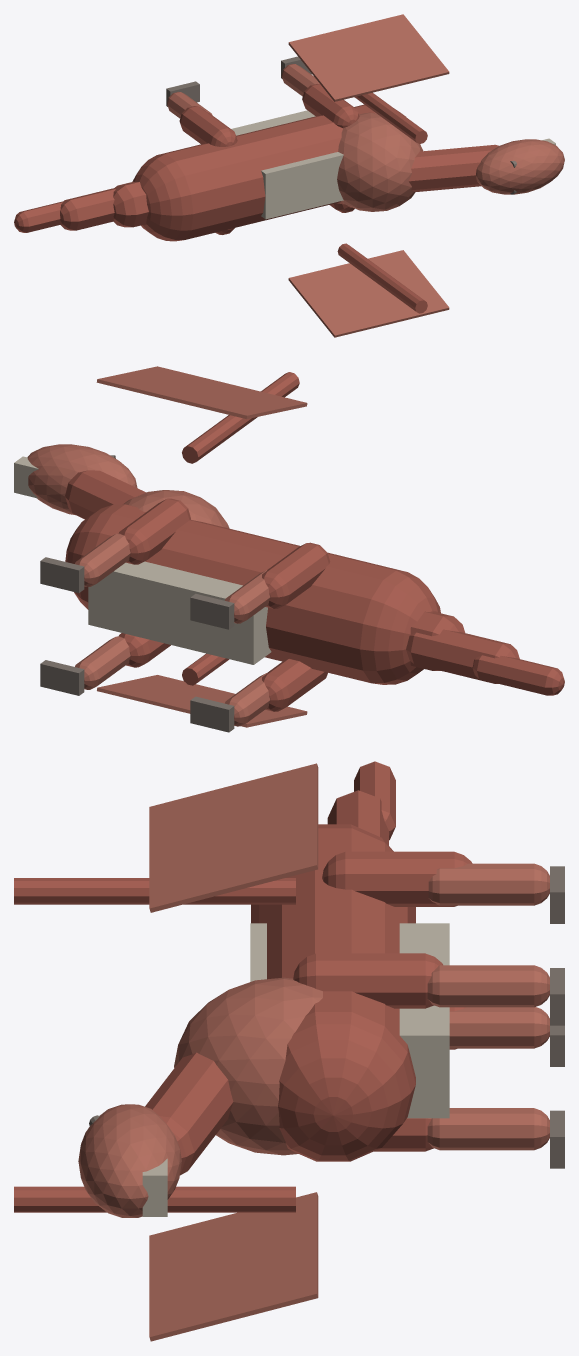
Rendered from red_dragon_v1.glb.
3 renders of one model, top to bottom at view 1: azimuth 30°, elevation 25°; view 2: azimuth 150°, elevation 25°; view 3: azimuth 270°, elevation 25°, orthographic. The views are drawn at different scales.
Visible parts, largest first — view 1: torso_body, arms_wing_membrane_R, arms_wing_membrane_L, torso_chest, torso_belly_plates, head_head, head_neck, legs_tail_1, arms_wing_arm_L, legs_hindleg_R, legs_tail_0, arms_foreleg_R (+5 smaller); view 2: torso_body, torso_belly_plates, arms_wing_membrane_R, head_head, legs_tail_1, arms_wing_membrane_L, legs_hindleg_R, arms_foreleg_R, legs_tail_2, head_neck, legs_hindleg_L, arms_wing_arm_R (+13 smaller); view 3: torso_body, arms_wing_membrane_R, arms_wing_membrane_L, torso_chest, head_head, torso_belly_plates, arms_foreleg_R, head_neck, legs_hindleg_R, arms_wing_arm_L, arms_wing_arm_R, arms_foreleg_R_lower (+10 smaller).
Boxes of the visible parts, box(x1,y1,x2,y2) form: torso_body: box(132, 104, 405, 241); arms_wing_membrane_R: box(288, 14, 449, 101); arms_wing_membrane_L: box(288, 250, 449, 337); torso_chest: box(337, 112, 423, 211); torso_belly_plates: box(231, 110, 343, 219); head_head: box(476, 139, 564, 194); head_neck: box(408, 144, 498, 192); legs_tail_1: box(60, 188, 115, 230); arms_wing_arm_L: box(337, 243, 427, 313); legs_hindleg_R: box(179, 106, 237, 146); legs_tail_0: box(113, 181, 148, 227); arms_foreleg_R: box(302, 84, 359, 128); torso_body: box(65, 504, 440, 684); torso_belly_plates: box(88, 561, 271, 664); arms_wing_membrane_R: box(96, 366, 307, 419); head_head: box(27, 444, 137, 515); legs_tail_1: box(406, 629, 519, 683); arms_wing_membrane_L: box(97, 675, 307, 727); legs_hindleg_R: box(262, 542, 330, 608); arms_foreleg_R: box(118, 498, 190, 564); legs_tail_2: box(472, 655, 564, 695); head_neck: box(65, 470, 146, 519); legs_hindleg_L: box(262, 659, 327, 711); arms_wing_arm_R: box(182, 372, 299, 463); torso_body: box(251, 824, 415, 1161); arms_wing_membrane_R: box(149, 763, 318, 912); arms_wing_membrane_L: box(149, 1192, 318, 1341); torso_chest: box(174, 977, 322, 1155); head_head: box(78, 1104, 181, 1217); torso_belly_plates: box(250, 923, 449, 1118); arms_foreleg_R: box(293, 953, 442, 1008); head_neck: box(145, 1052, 233, 1175); legs_hindleg_R: box(322, 851, 472, 906); arms_wing_arm_L: box(14, 1186, 295, 1212); arms_wing_arm_R: box(14, 878, 295, 904); arms_foreleg_R_lower: box(427, 965, 549, 1007).
Size of the model in its own units: 12.14 by 6.34 by 6.64.
